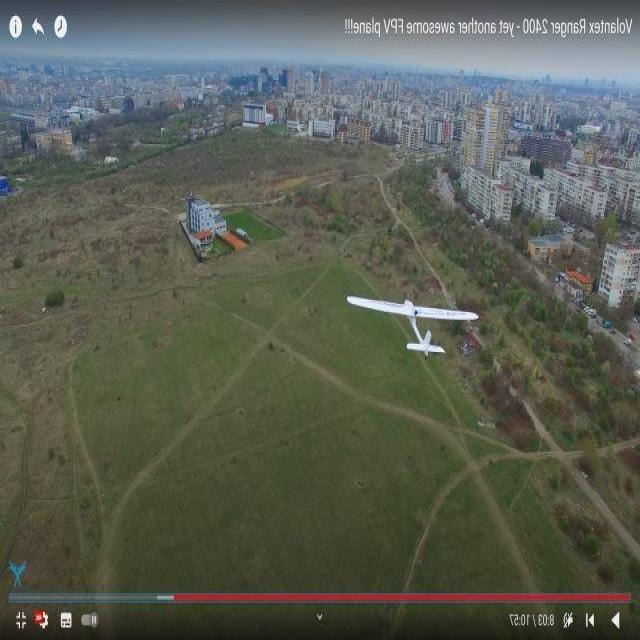Airplane: (342, 282, 487, 364)
